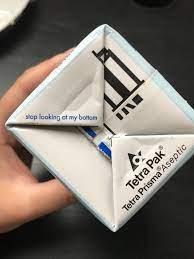cardboard: (1, 24, 192, 230)
